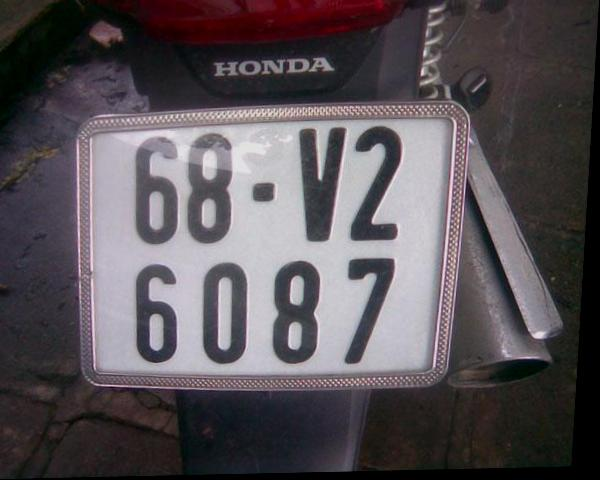License_Plate: (78, 115, 456, 386)
